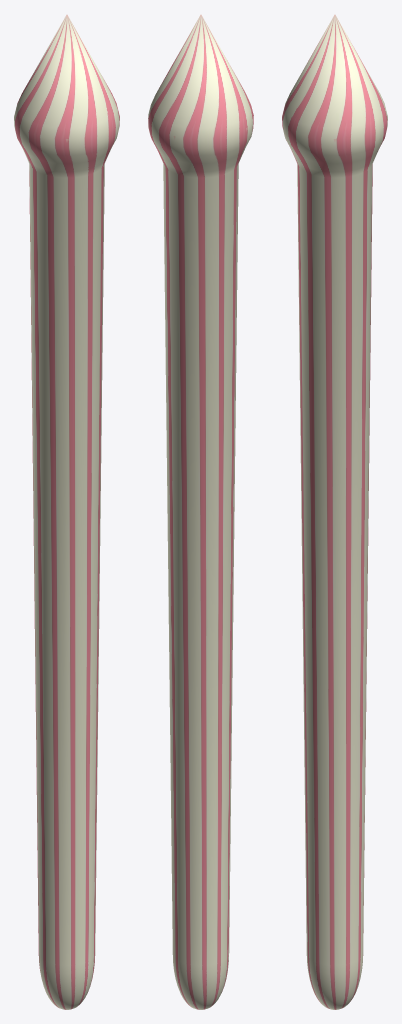
Rendered from Lanza.fbx.
The picture shows the model from 3 angles, left to right: view 1: azimuth 90°, elevation 25°; view 2: azimuth 150°, elevation 25°; view 3: azimuth 270°, elevation 25°; orthographic projection.
Parts seen in each view (by area): view 1: Cylinder; view 2: Cylinder; view 3: Cylinder.
Boxes of the visible parts, x1,y1,x2,y2 form: Cylinder: [14, 14, 119, 1009]; Cylinder: [148, 14, 253, 1009]; Cylinder: [282, 14, 387, 1009].
Size of the model in its own units: 1.31 by 13.51 by 1.31.
1 material, 1 textured.
